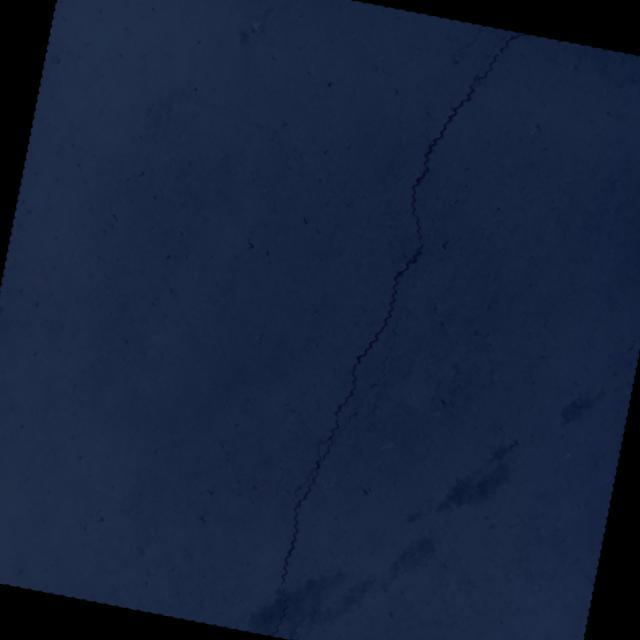crack: (266, 7, 527, 640), (434, 19, 507, 110)
